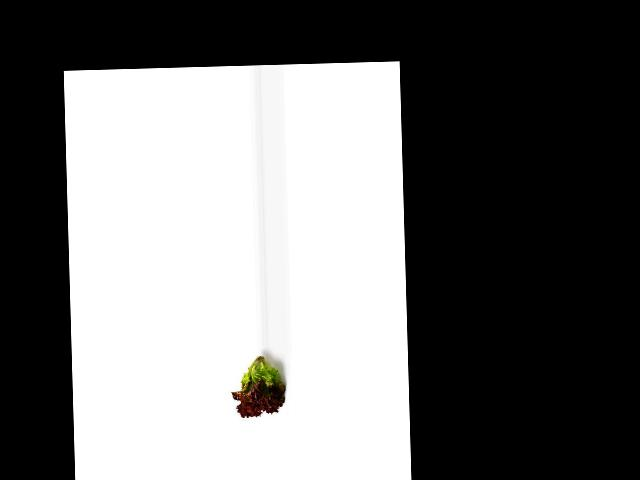lettuce: (232, 347, 287, 421)
